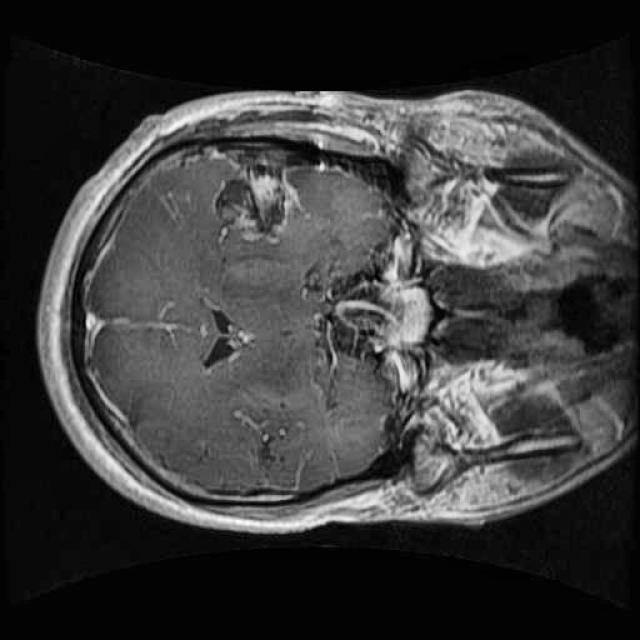Non-Tumor: (195, 149, 324, 259)
